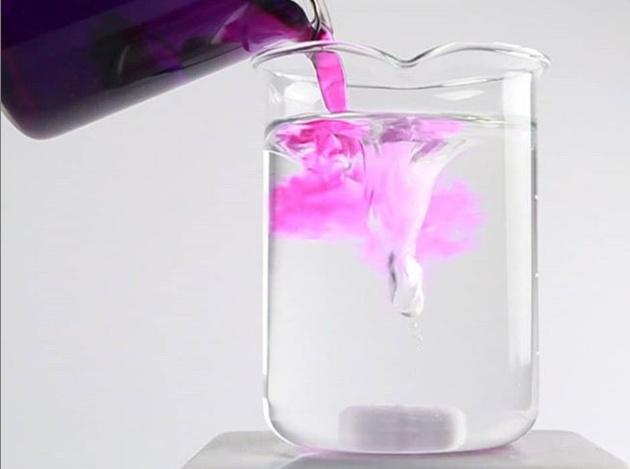Beaker: (249, 42, 590, 448)
